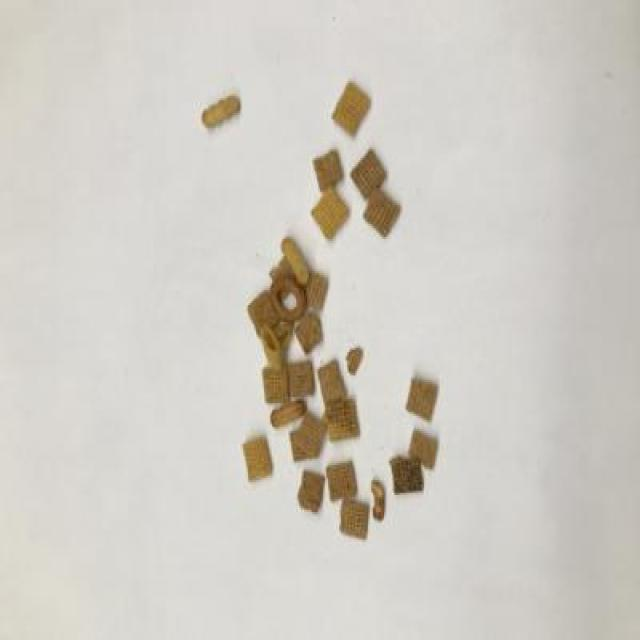compost: (178, 65, 507, 563)
